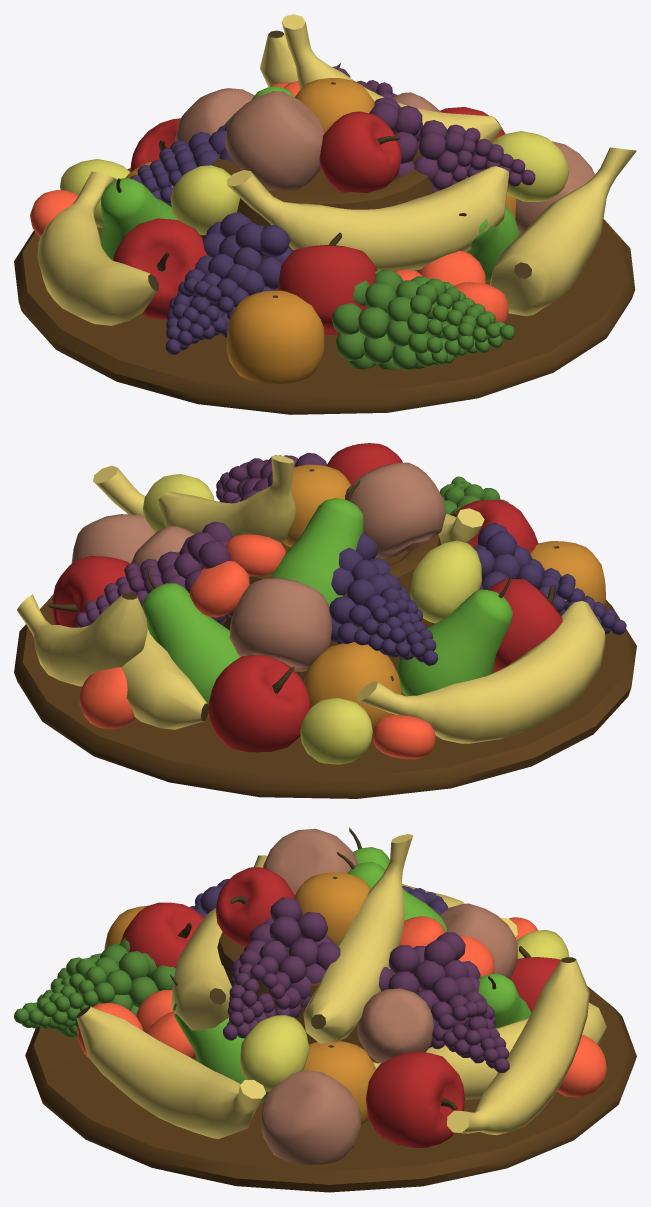
Rendered from Hat_Fruit.fbx.
3 views of the same model, one above another, from view 1: azimuth 30°, elevation 25°; view 2: azimuth 150°, elevation 25°; view 3: azimuth 270°, elevation 25° (orthographic). The views are drawn at different scales.
Parts seen in each view (by area): view 1: Hat_Fruit; view 2: Hat_Fruit; view 3: Hat_Fruit.
Part boxes in pixels (left/top/right/bottom): Hat_Fruit: left=14, top=14, right=636, bottom=414; Hat_Fruit: left=14, top=443, right=636, bottom=798; Hat_Fruit: left=14, top=827, right=636, bottom=1192.
Size of the model in its own units: 3.05 by 1.32 by 3.12.
